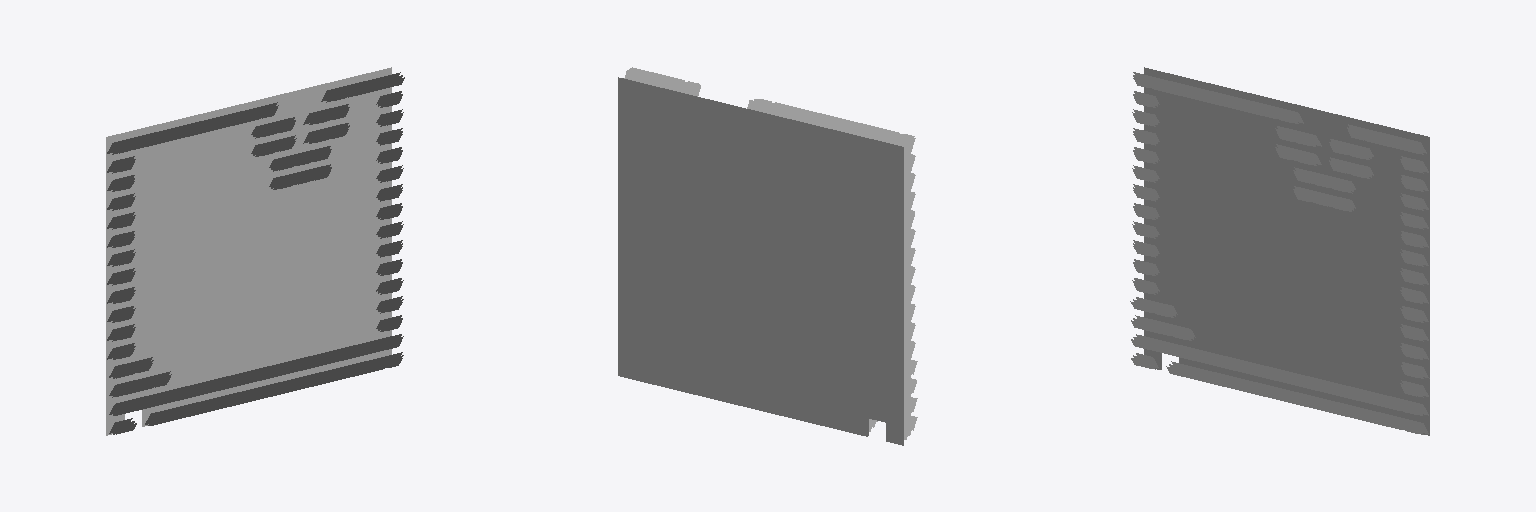
File: Plat_full_04_13.obj
3 views of the same model, side by side, from view 1: azimuth 30°, elevation 25°; view 2: azimuth 150°, elevation 25°; view 3: azimuth 330°, elevation 25° (orthographic).
Parts seen in each view (by area): view 1: map; view 2: map; view 3: map.
Boxes of the visible parts, <box> form: map: <box>106,67,404,435</box>; map: <box>618,67,917,445</box>; map: <box>1130,67,1429,435</box>.
Size of the model in its own units: 32.5 by 32.12 by 2.64.